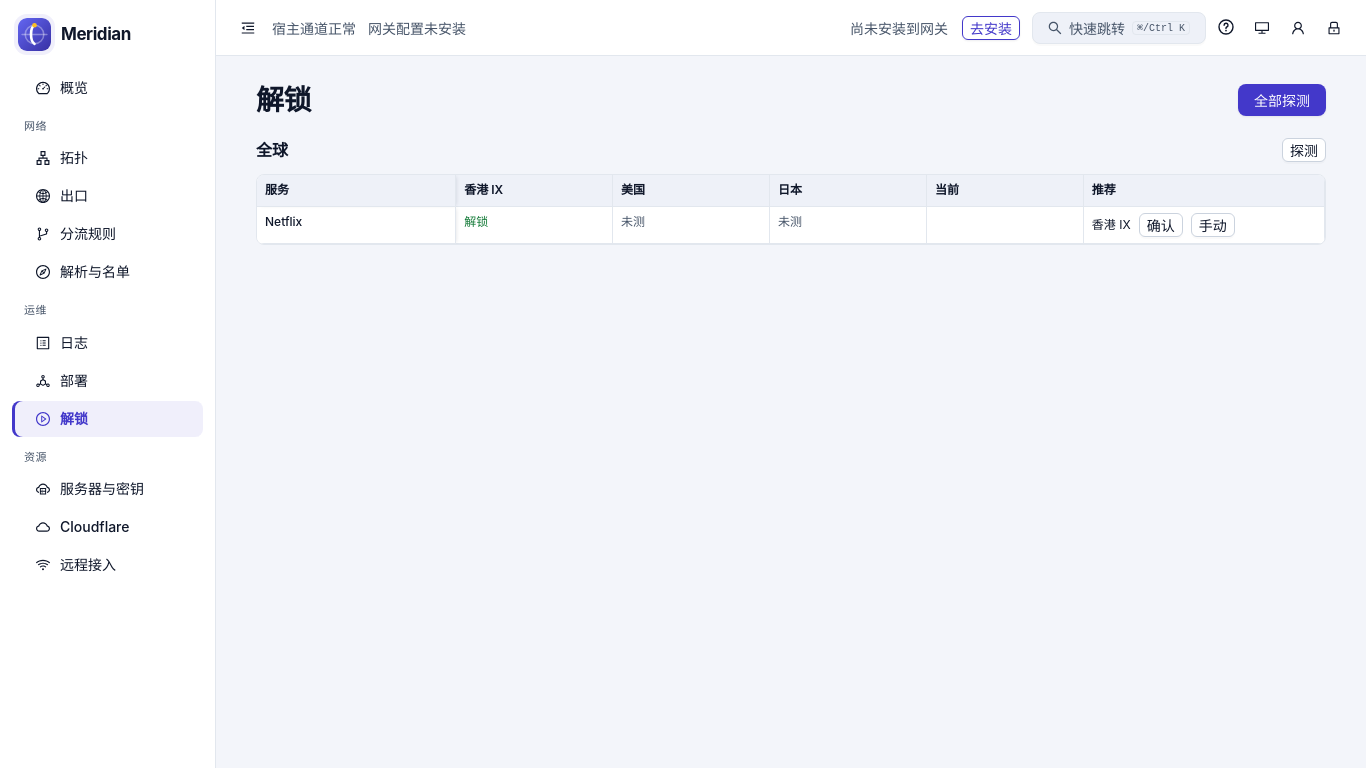
Scenario: unlock: 确认 and 手动 › 确认 with an impact asks once more, then shows 将自动生效
Expected: the table with test id "unlock-table-global" is shown, [257, 175, 1325, 244]
Click the button with aria-label "确认 Netflix → 香港 IX": (1161, 225) [1139, 213, 1183, 237]
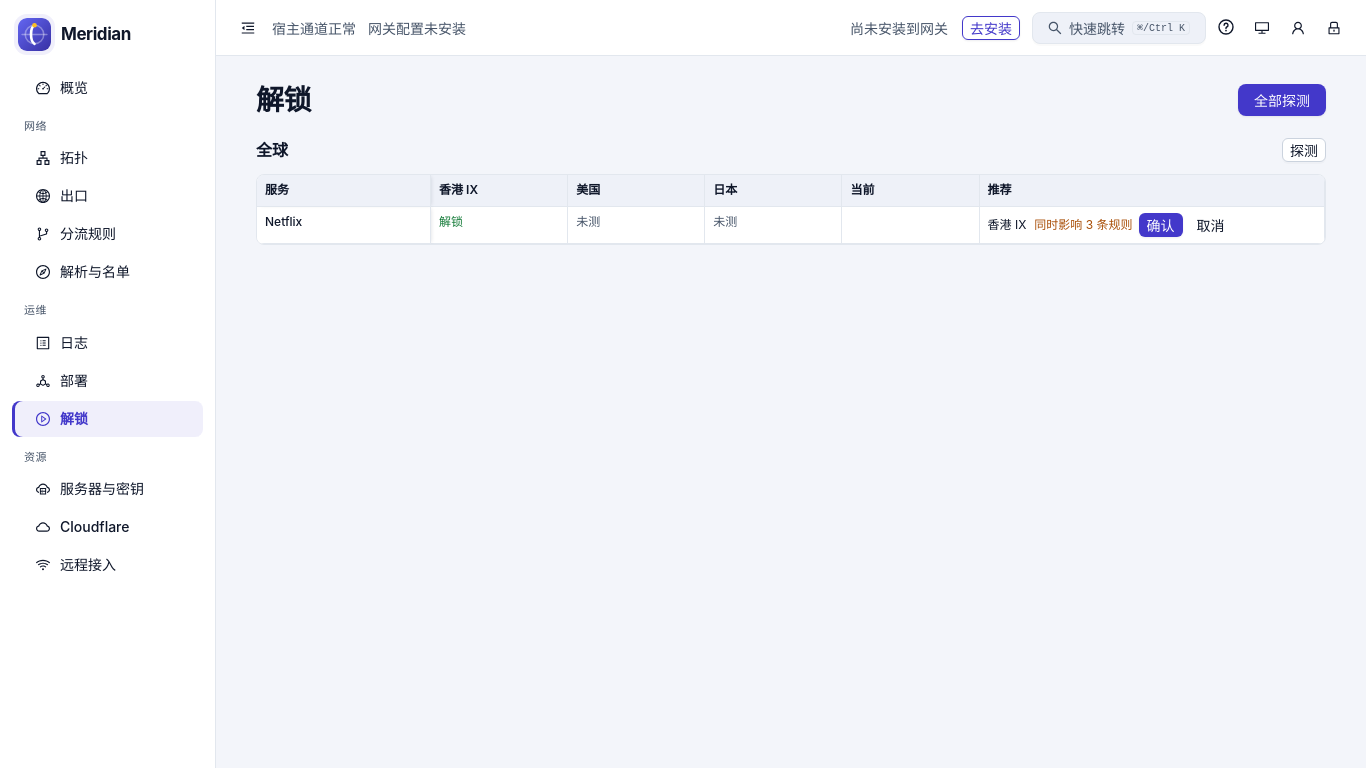
Now the element with test id "adopt-confirm-auto-netflix" shows "同时影响 3 条规则", box [1034, 213, 1232, 237]
Click the button with aria-label "确认采用 Netflix → 香港 IX": (1160, 225) [1138, 213, 1182, 237]
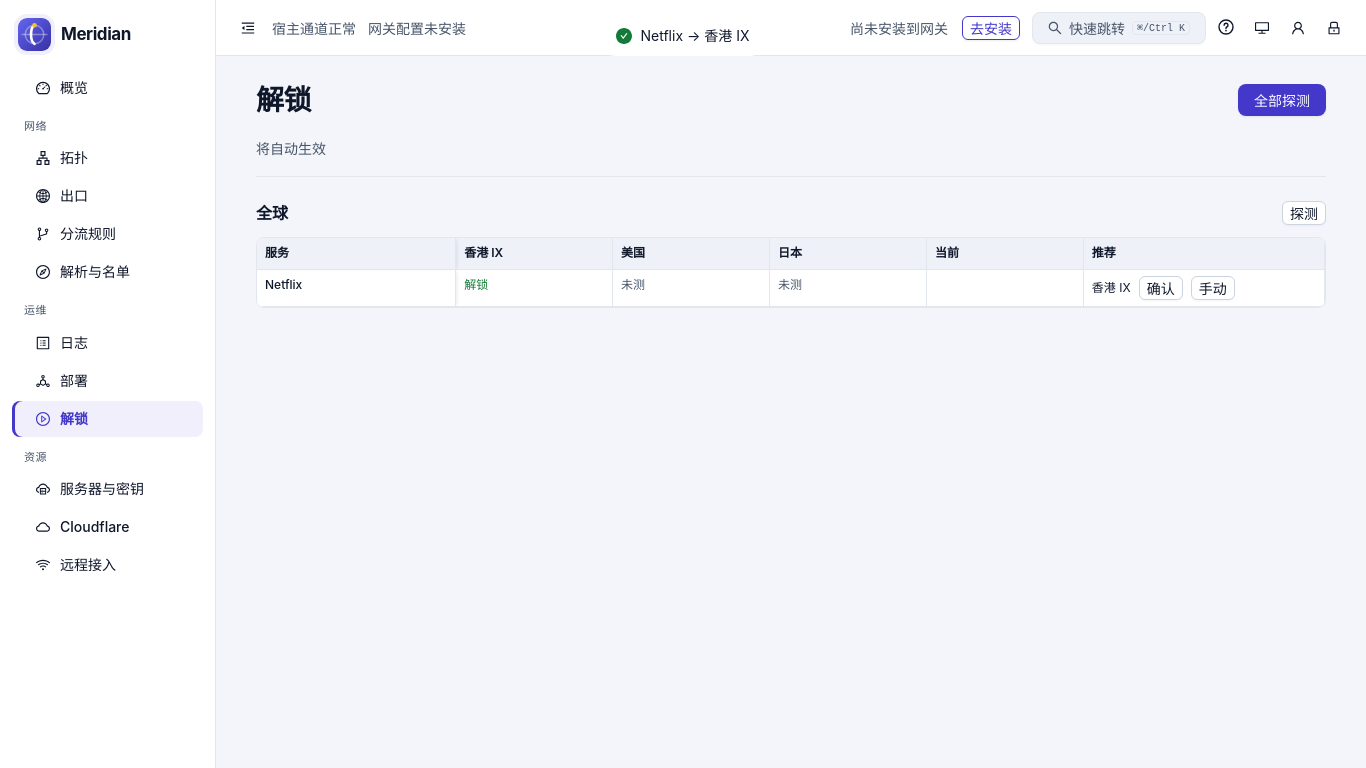
Now the text with test id "rules-apply-line" reads "将自动生效", box [256, 140, 326, 157]
